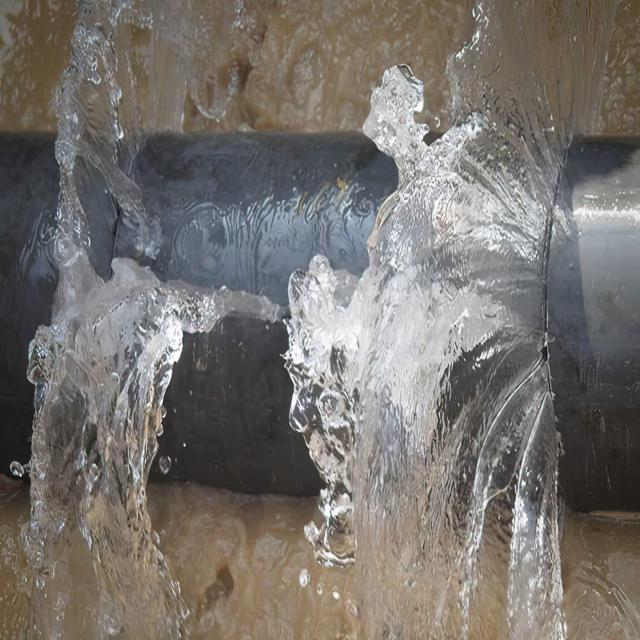leak: (288, 4, 615, 639), (28, 2, 282, 638)
